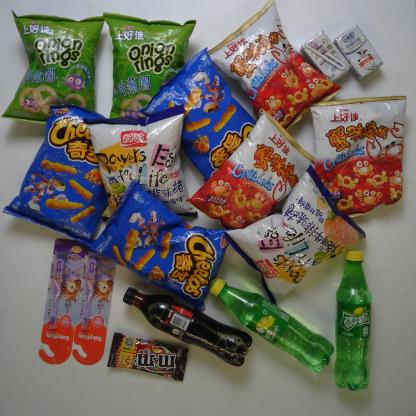Chocolate: (106, 330, 190, 380)
Drink: (206, 278, 334, 372), (119, 284, 253, 369), (333, 245, 376, 392)
Milk: (336, 18, 383, 79), (304, 31, 350, 79)
Personal Hygiene: (71, 240, 124, 366), (38, 236, 86, 364)
Puffed Food: (222, 163, 369, 306), (204, 0, 344, 139), (137, 47, 270, 191), (90, 178, 233, 311), (1, 102, 131, 247), (183, 109, 319, 239), (82, 103, 198, 228), (310, 93, 408, 221), (2, 9, 107, 126), (100, 13, 199, 128)
